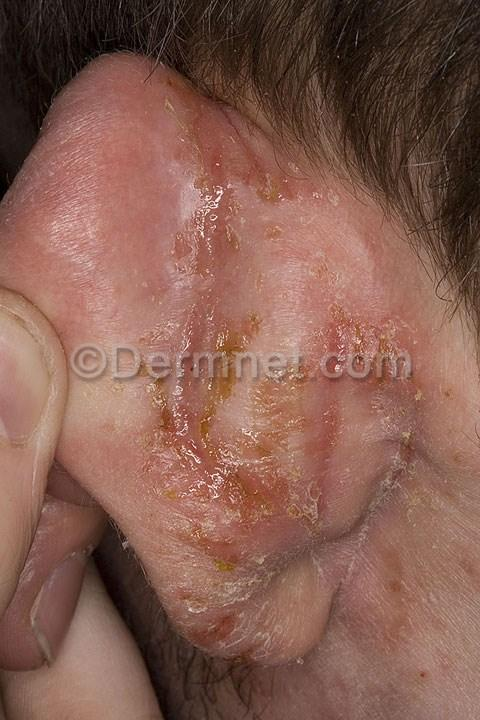Eczema: (156, 474, 365, 668), (162, 144, 253, 435)
